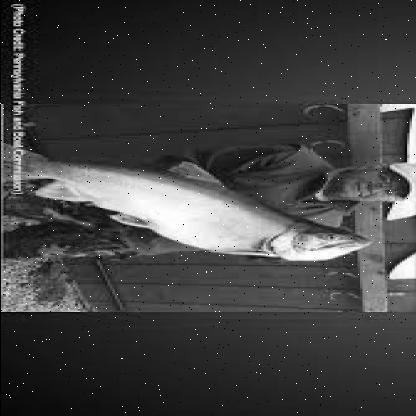fish: (3, 138, 372, 262)
